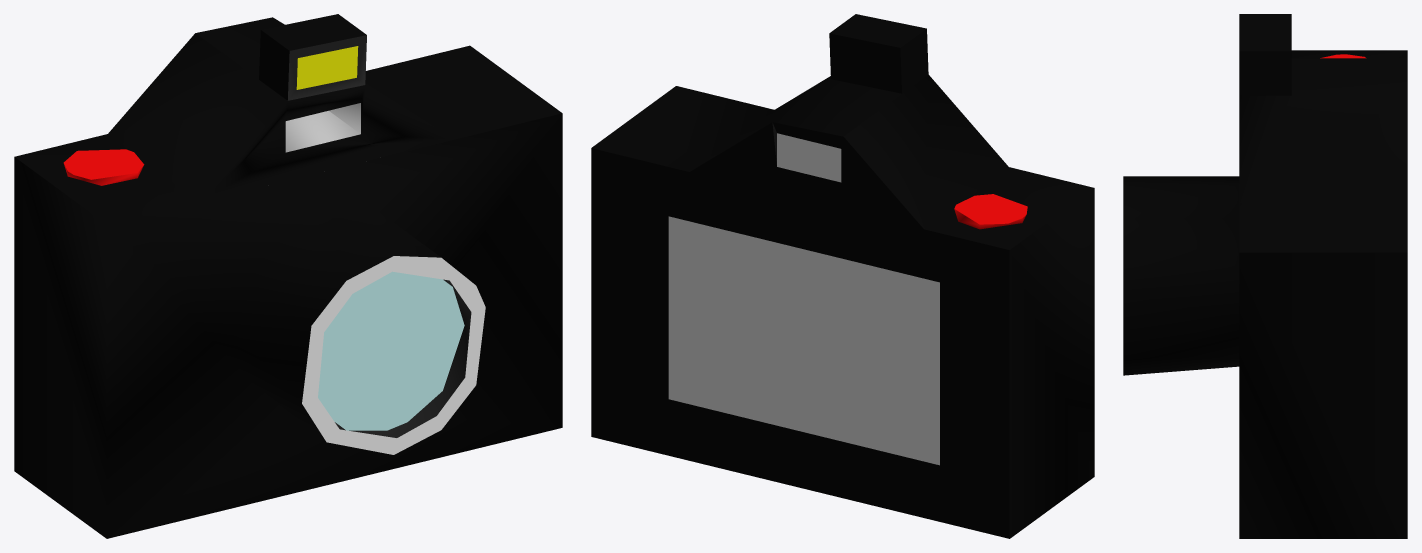
The model's file is camera_prop.fbx.
3 renders of one model, left to right at view 1: azimuth 30°, elevation 25°; view 2: azimuth 150°, elevation 25°; view 3: azimuth 270°, elevation 25°, orthographic. The views are drawn at different scales.
Parts seen in each view (by area): view 1: Component_3_1; view 2: Component_3_1; view 3: Component_3_1.
Part boxes in pixels (left/top/right/bottom): Component_3_1: left=14, top=14, right=562, bottom=538; Component_3_1: left=591, top=14, right=1094, bottom=538; Component_3_1: left=1123, top=14, right=1407, bottom=538.
Size of the model in its own units: 16.24 by 15.1 by 9.64.
